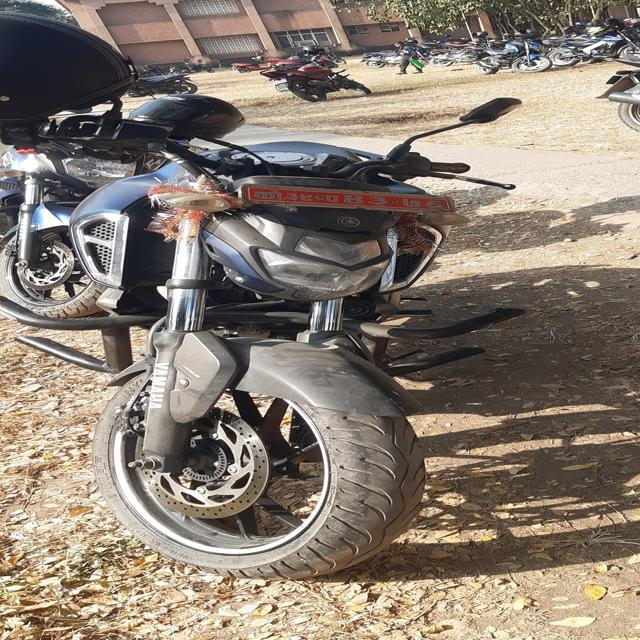license_plate: (208, 156, 474, 247)
